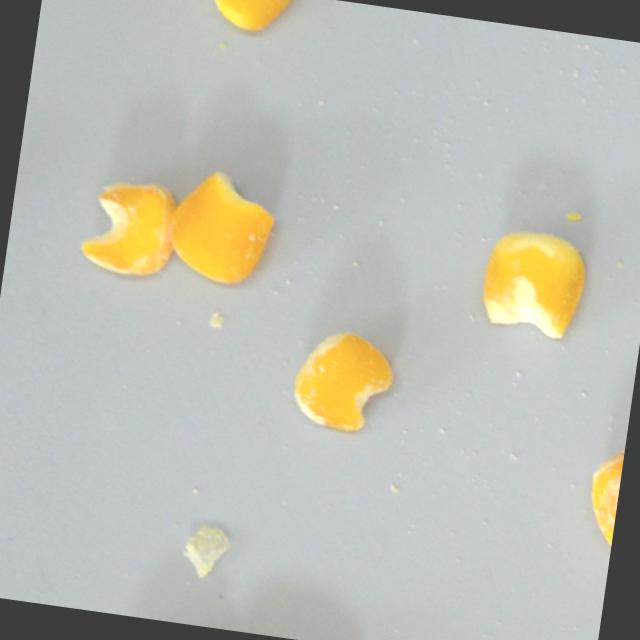dañado: (158, 161, 285, 294), (471, 220, 595, 344), (285, 320, 404, 440), (72, 171, 187, 283), (576, 427, 627, 557), (187, 0, 302, 40)
